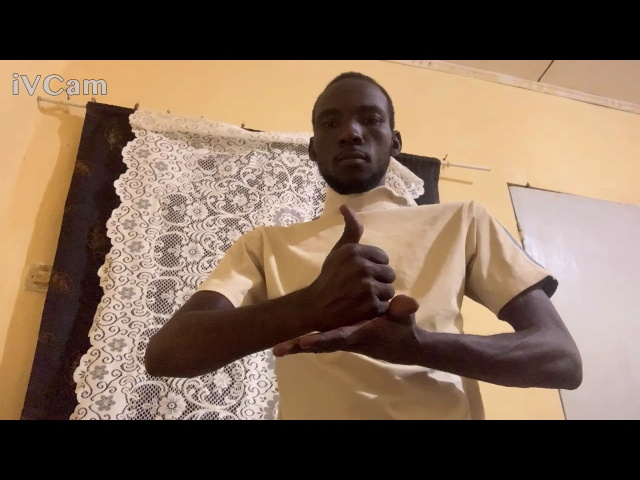aide: (264, 200, 448, 369)
